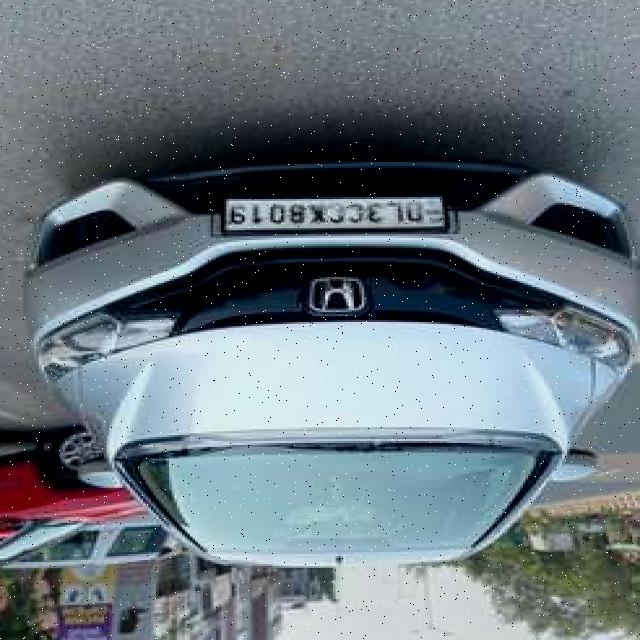plate: (223, 195, 452, 234)
